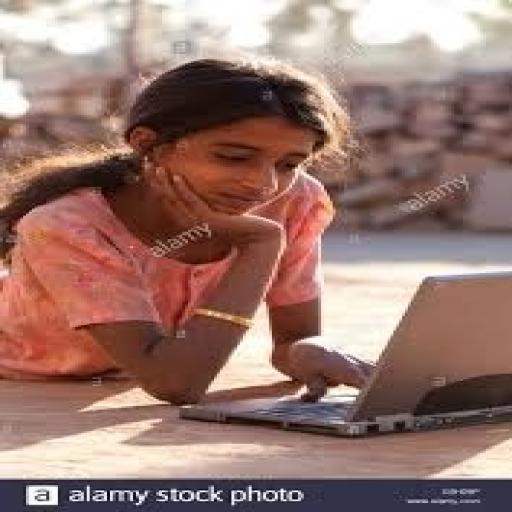using_laptop: (177, 268, 509, 438)
